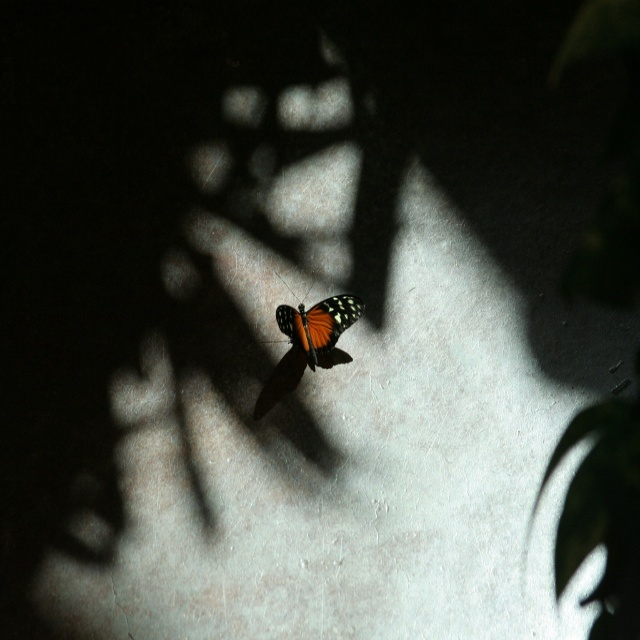Butterfly: (276, 271, 364, 366)
